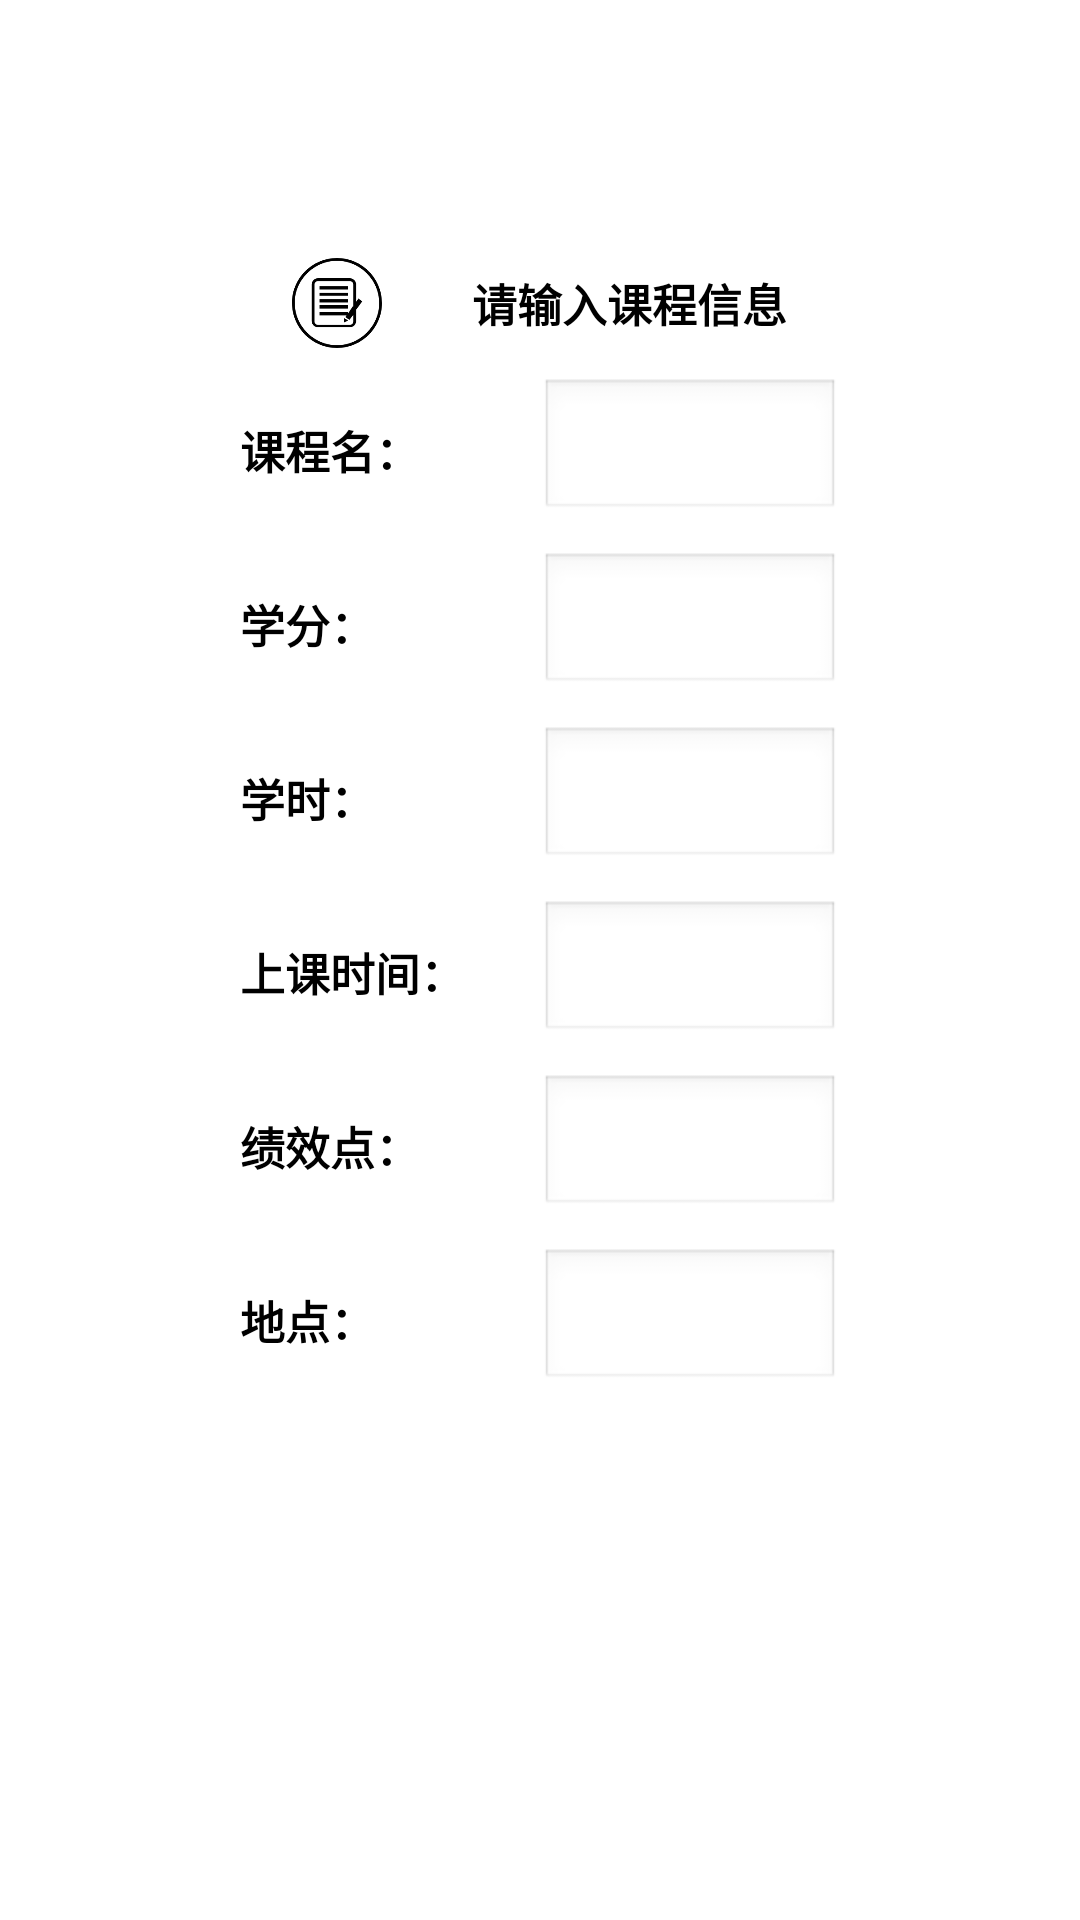

Icons on this 1080*1920 Android screen, each with its box as (x1, y1, x2, y2):
insert course: (292, 258, 382, 348)
